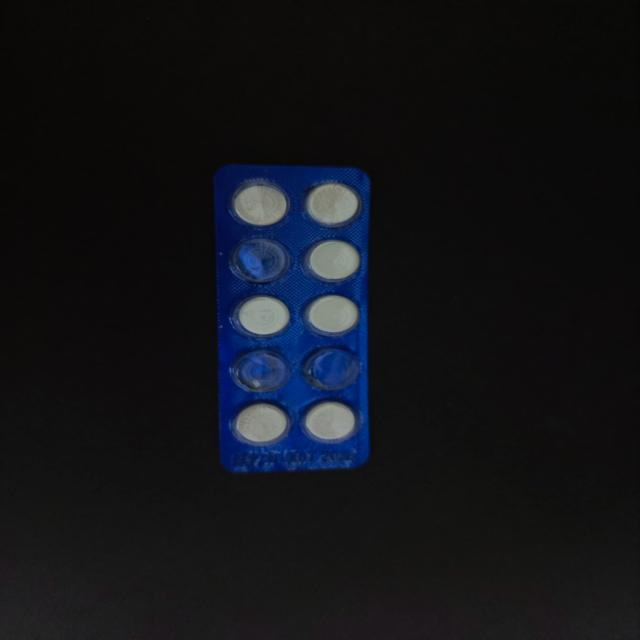defect: (226, 234, 295, 287), (228, 346, 295, 396), (299, 342, 364, 393)
